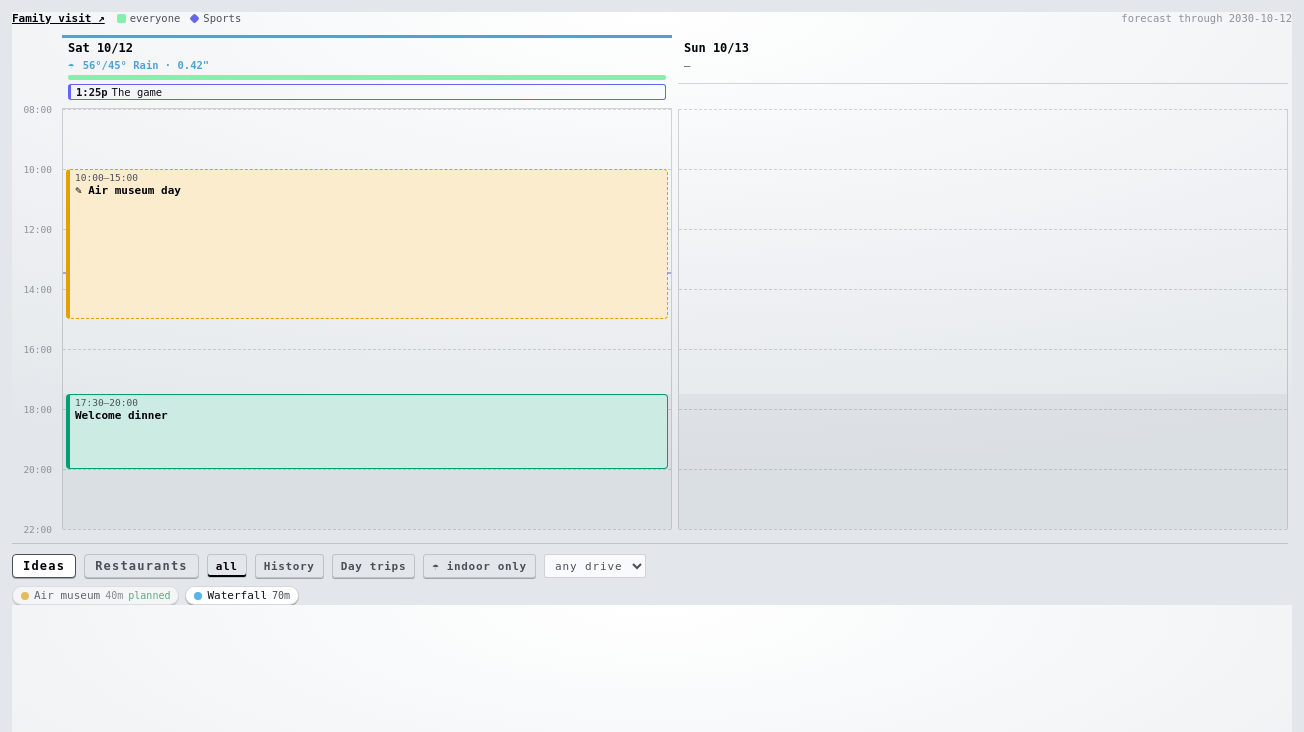
Test: ScheduleBoard › hovering a linked item shows the bank quick card
Hover over the button "10:00–15:00 ✎ Air museum day".
mouse_move(121, 178)  # box [66,169,668,319]
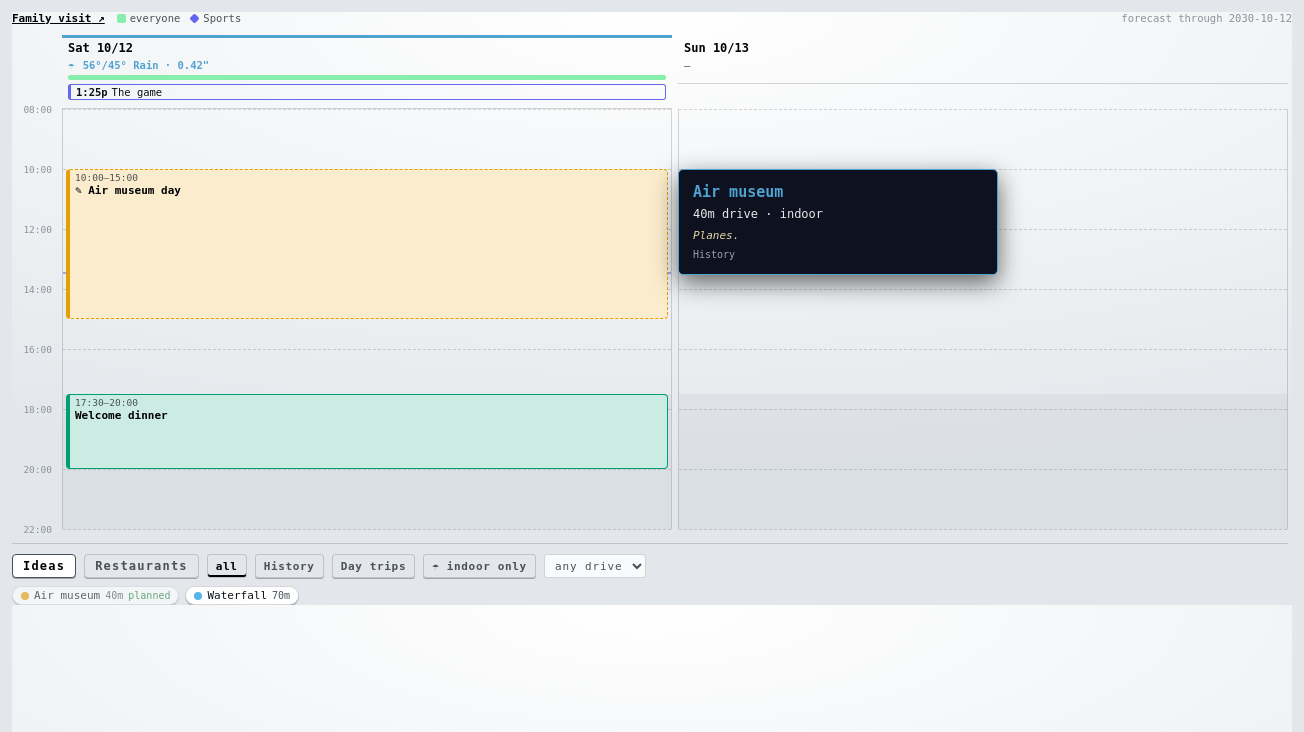
Expected: the text "Planes." is shown, [693,229,739,242]
